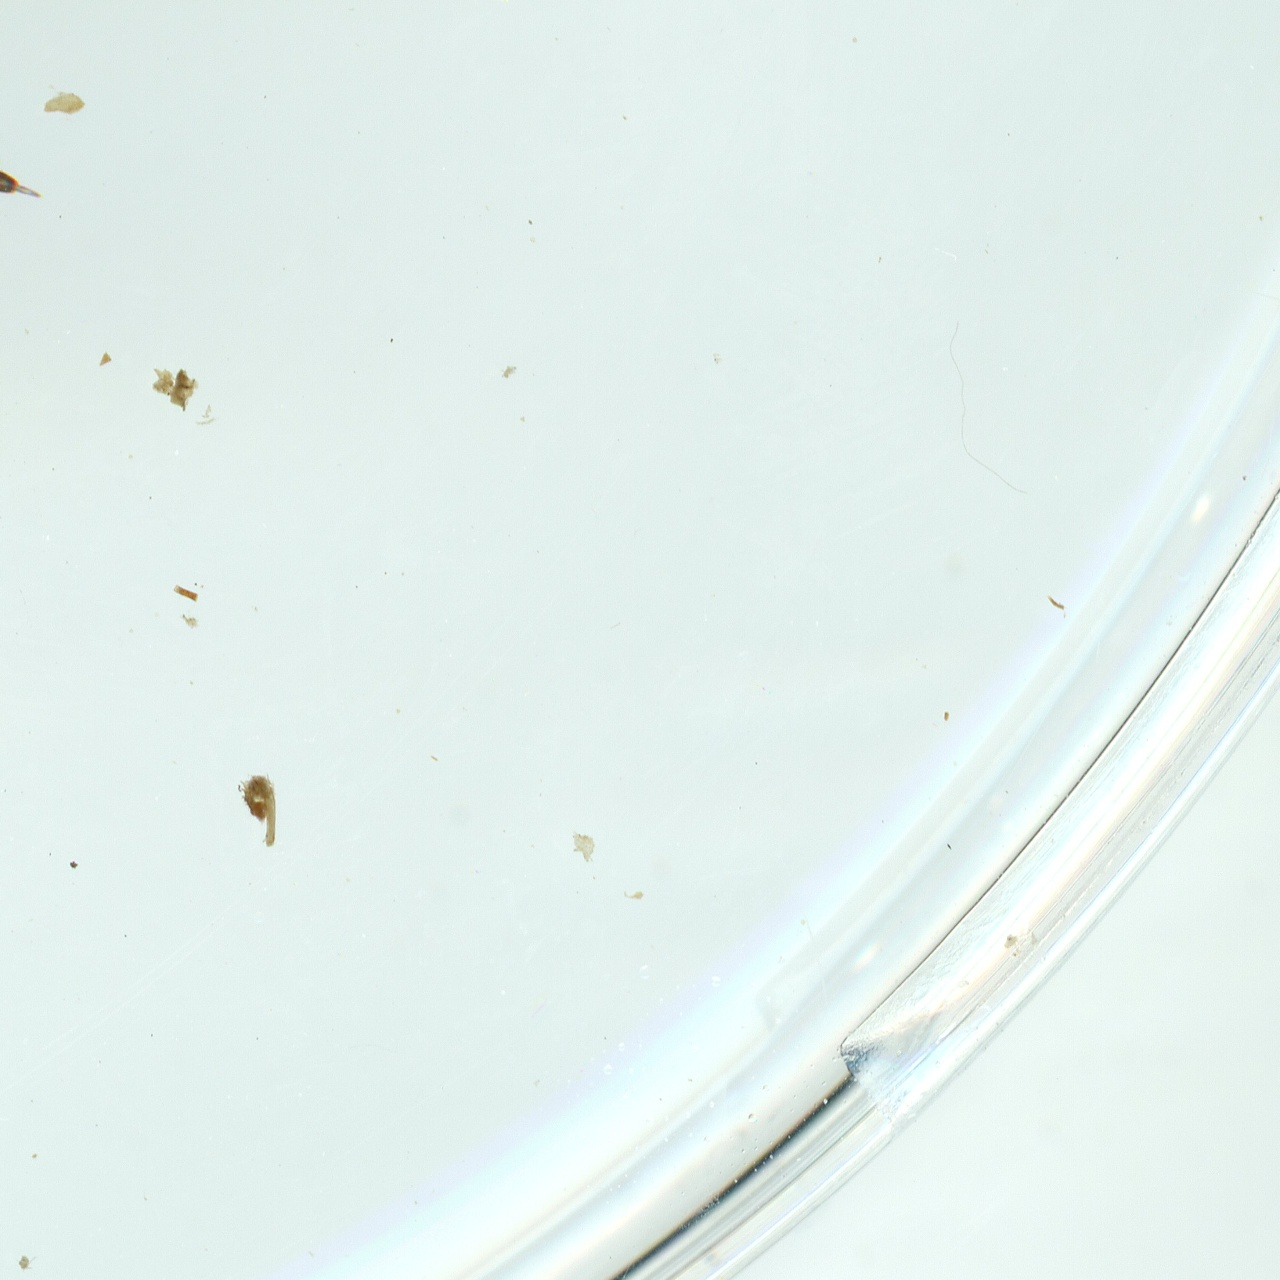arthropod: (0, 124, 59, 220)
